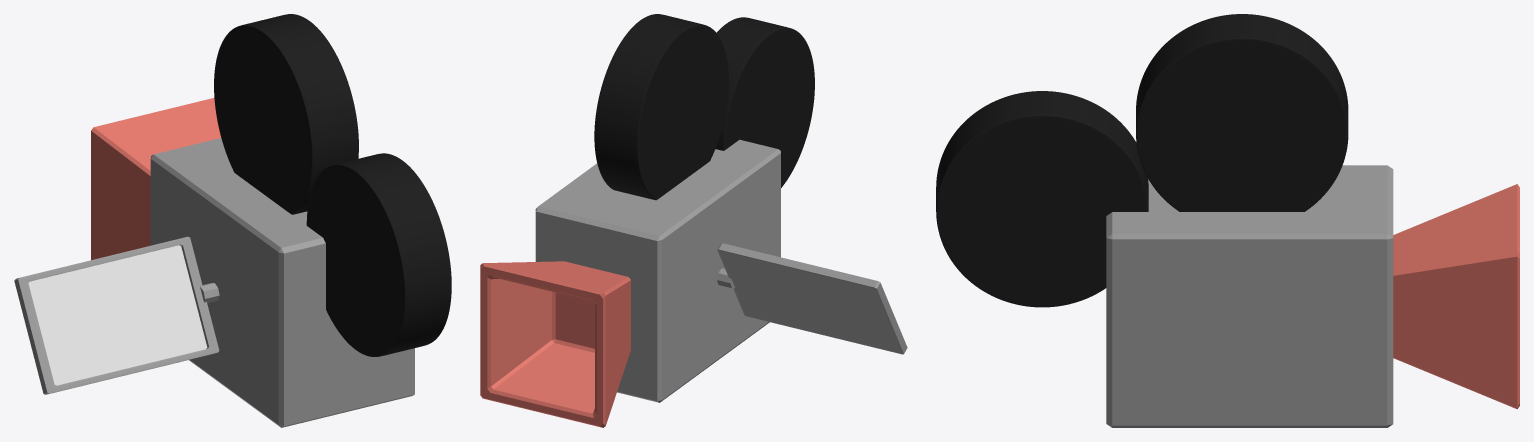
Rendered from Camera.fbx.
The picture shows the model from 3 angles, left to right: view 1: azimuth 30°, elevation 25°; view 2: azimuth 150°, elevation 25°; view 3: azimuth 270°, elevation 25°; orthographic projection. The views are drawn at different scales.
Parts seen in each view (by area): view 1: Cube, Cylinder, Cylinder.001, Screen, Cube.001, Monitor; view 2: Cube, Cube.001, Cylinder.001, Monitor, Cylinder; view 3: Cube, Cylinder.001, Cylinder, Cube.001.
Part boxes in pixels (left/top/right/bottom): Cube: left=150, top=138, right=414, bottom=427; Cylinder: left=306, top=153, right=451, bottom=356; Cylinder.001: left=214, top=14, right=358, bottom=214; Screen: left=28, top=245, right=207, bottom=385; Cube.001: left=91, top=98, right=221, bottom=260; Monitor: left=14, top=236, right=219, bottom=394; Cube: left=535, top=139, right=780, bottom=402; Cube.001: left=480, top=261, right=630, bottom=427; Cylinder.001: left=594, top=14, right=728, bottom=200; Monitor: left=717, top=243, right=907, bottom=354; Cylinder: left=715, top=17, right=814, bottom=187; Cube: left=1106, top=165, right=1393, bottom=427; Cylinder.001: left=1136, top=14, right=1348, bottom=211; Cylinder: left=936, top=91, right=1148, bottom=307; Cube.001: left=1393, top=184, right=1519, bottom=409.
Bounding box in the file's own units: 372 × 379 × 546.
